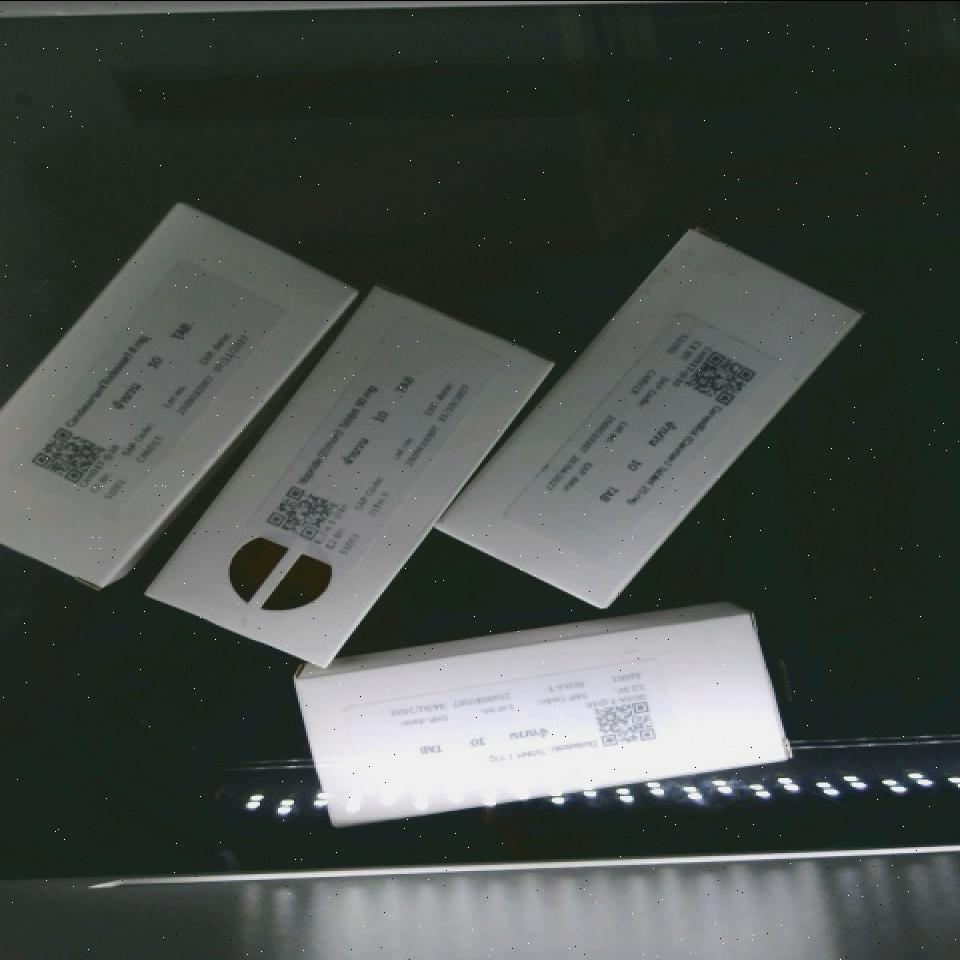medicine_box: (427, 188, 863, 644), (143, 251, 553, 709), (0, 165, 352, 607), (299, 606, 790, 826)
qr_code: (658, 325, 774, 430), (244, 460, 358, 564), (15, 400, 121, 508), (574, 682, 671, 759)
